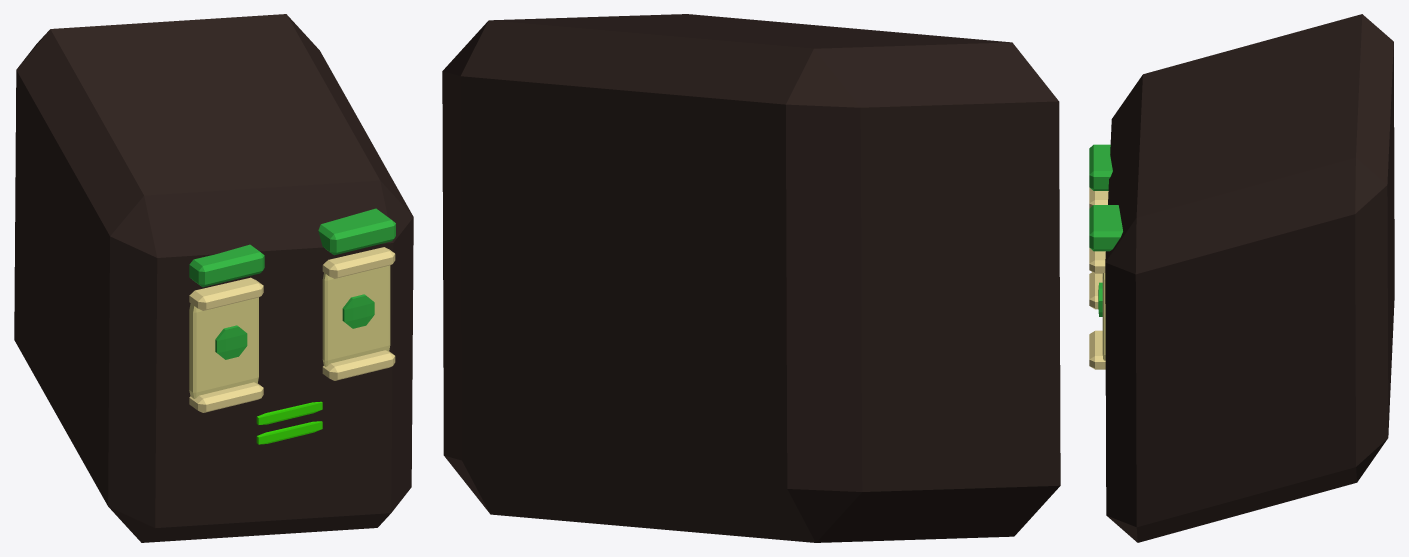
Rendered from bossfinal03.glb.
The picture shows the model from 3 angles, left to right: view 1: azimuth 30°, elevation 25°; view 2: azimuth 150°, elevation 25°; view 3: azimuth 270°, elevation 25°; orthographic projection. The views are drawn at different scales.
Visible parts, largest first — view 1: head, Cube.002, EyeBrown, lip_up, lip_down', eye, eyes, mouth', mouth; view 2: head; view 3: head, EyeBrown, lip_down', lip_up.
Part boxes in pixels (box(x1,y1,x2,y2)): head: box(14, 14, 413, 542); Cube.002: box(189, 265, 390, 398); EyeBrown: box(189, 208, 395, 287); lip_up: box(189, 247, 395, 310); lip_down': box(189, 350, 395, 412); eye: box(342, 294, 374, 328); eyes: box(215, 325, 247, 359); mouth': box(256, 421, 322, 444); mouth: box(256, 401, 322, 424); head: box(442, 14, 1060, 542); head: box(1105, 14, 1394, 542); EyeBrown: box(1089, 144, 1122, 251); lip_down': box(1089, 272, 1105, 369); lip_up: box(1089, 187, 1108, 273).
Size of the model in its own units: 0.7442 by 1.01 by 0.6478.
